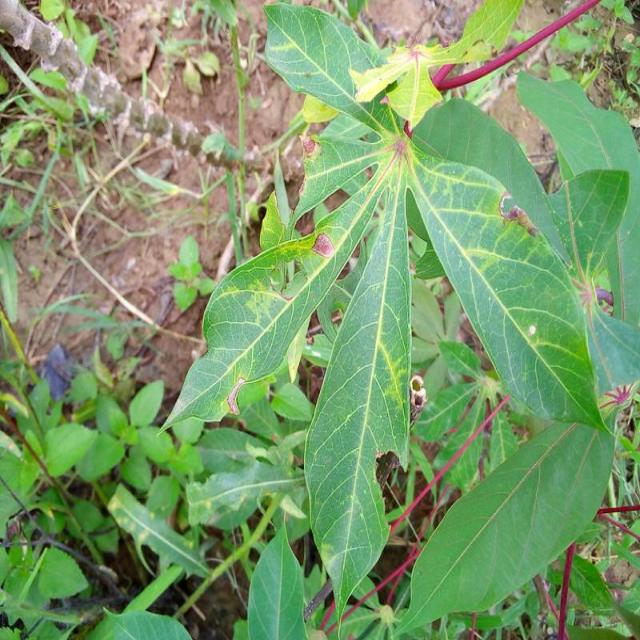cassava leaf: (158, 1, 637, 635), (403, 96, 610, 433), (302, 158, 413, 633), (392, 414, 617, 637)
